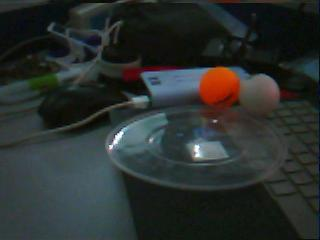oball: (199, 67, 239, 106)
